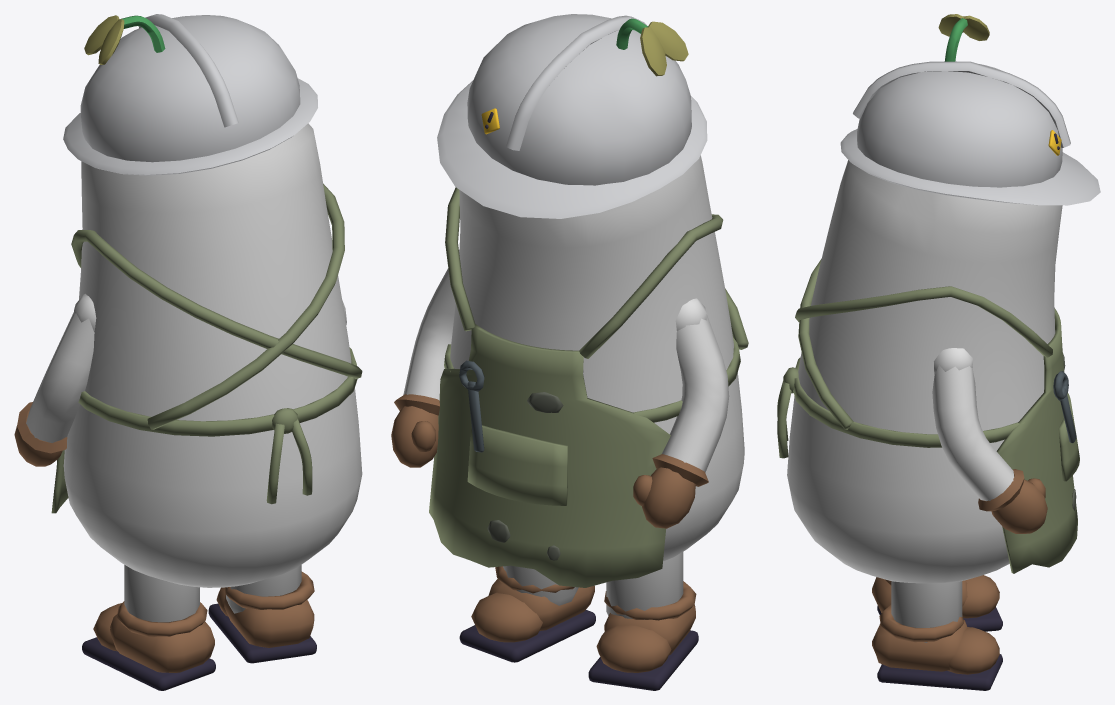
The model's file is player.glb.
3 views of the same model, side by side, from view 1: azimuth 30°, elevation 25°; view 2: azimuth 150°, elevation 25°; view 3: azimuth 270°, elevation 25° (orthographic). The views are drawn at different scales.
Parts seen in each view (by area): view 1: Body, Hat, ArmL; view 2: Body, Hat, ArmL, ArmR; view 3: Body, Hat, ArmR.
Boxes of the visible parts, bbox=[...] form: Body: bbox=[51, 123, 362, 690]; Hat: bbox=[63, 14, 317, 175]; ArmL: bbox=[14, 293, 96, 466]; Body: bbox=[429, 155, 748, 690]; Hat: bbox=[437, 14, 707, 218]; ArmL: bbox=[633, 298, 729, 528]; ArmR: bbox=[391, 249, 459, 467]; Body: bbox=[777, 160, 1079, 690]; Hat: bbox=[840, 14, 1100, 205]; ArmR: bbox=[932, 348, 1047, 533].
Size of the model in its own units: 0.9271 by 1.87 by 0.9147.
